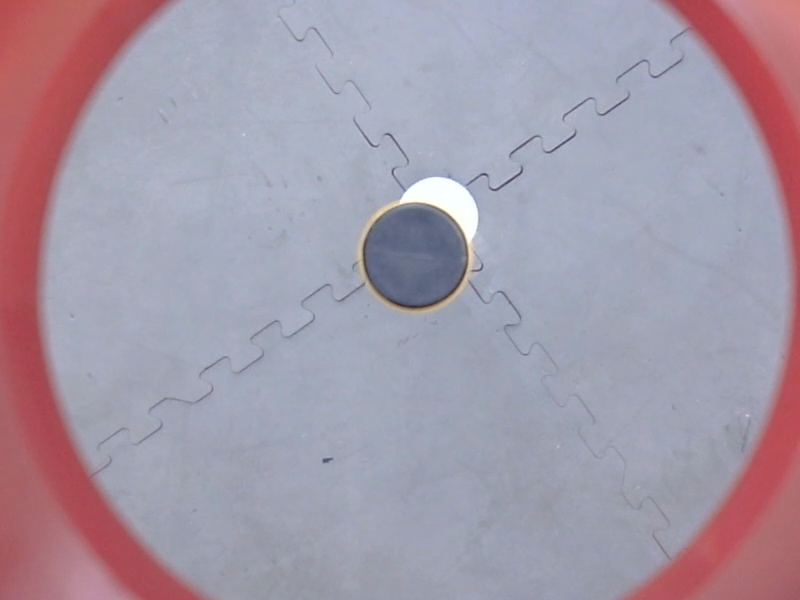tip: (352, 193, 475, 319)
